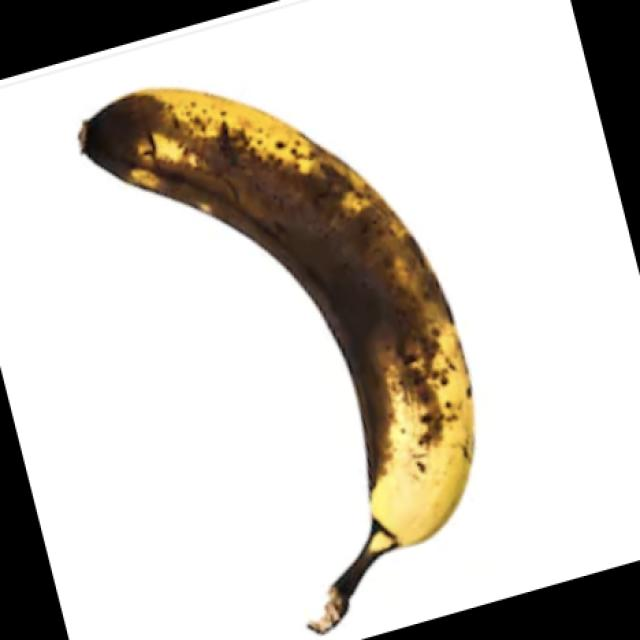overripe: (70, 78, 479, 587)
